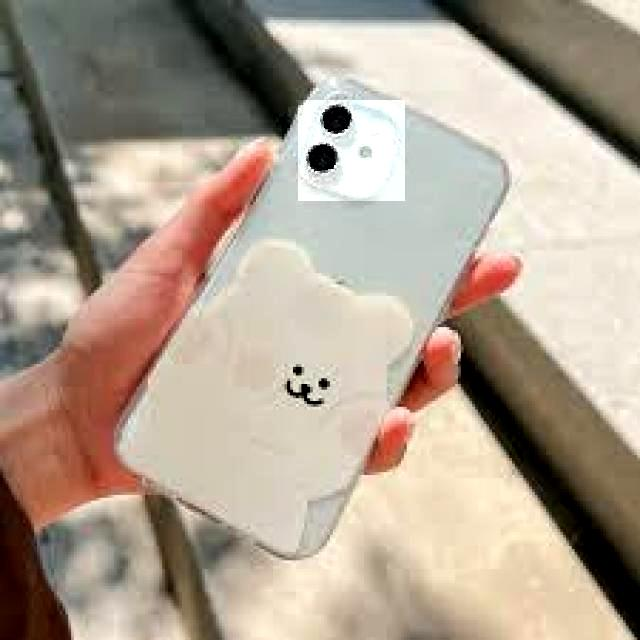lens_back: (318, 103, 354, 139), (304, 143, 341, 175)
phone: (115, 73, 512, 561)
